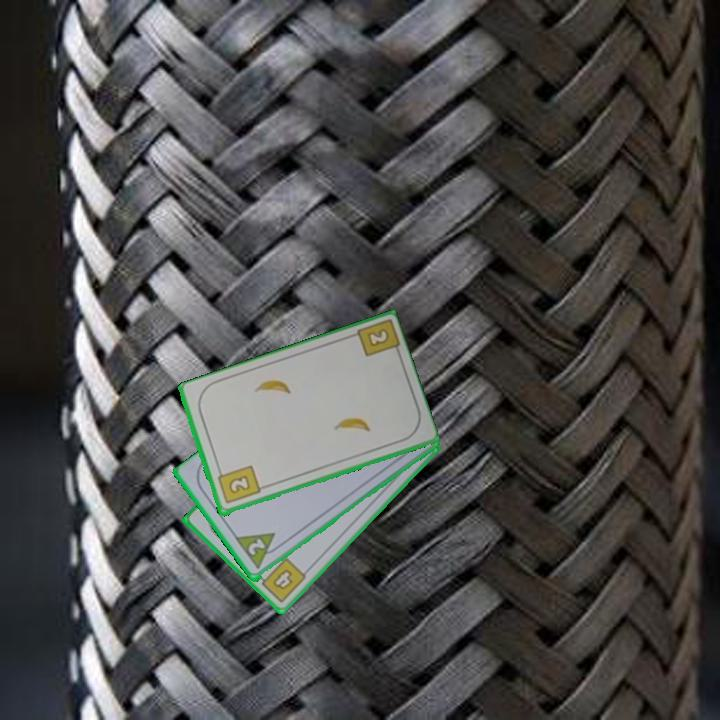2b: (214, 462, 263, 507), (363, 325, 392, 350)
2p: (244, 535, 268, 559)
4b: (254, 554, 309, 606)
